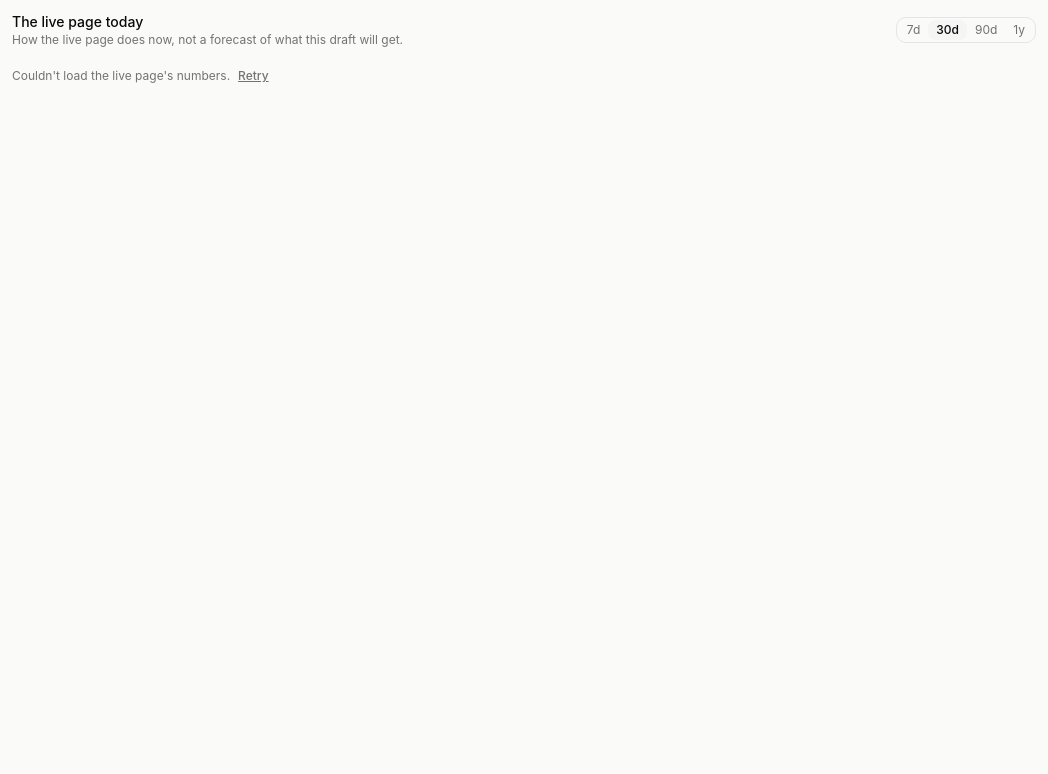
the Live page tab › offers to retry when the read fails
The width and height of the screenshot is (1048, 774).
Click the button "Retry" at (253, 76), box [238,68,269,84]
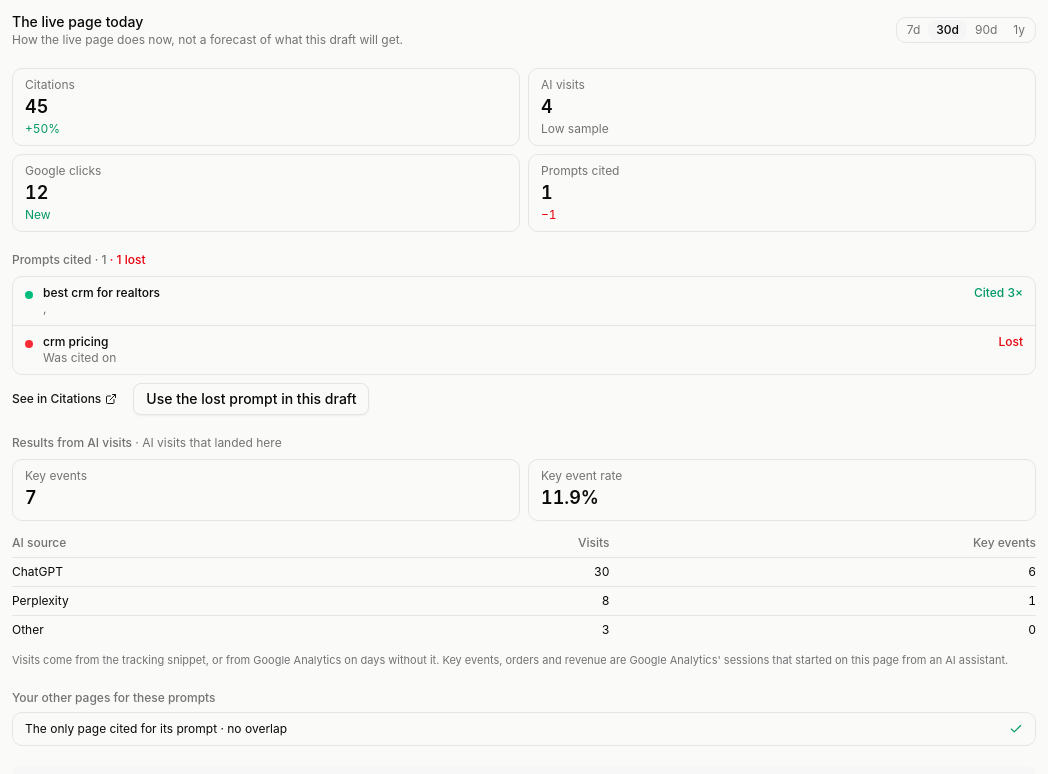
Expected: the element showing "Citations 45 +50%" is shown, [12,68,520,146]
